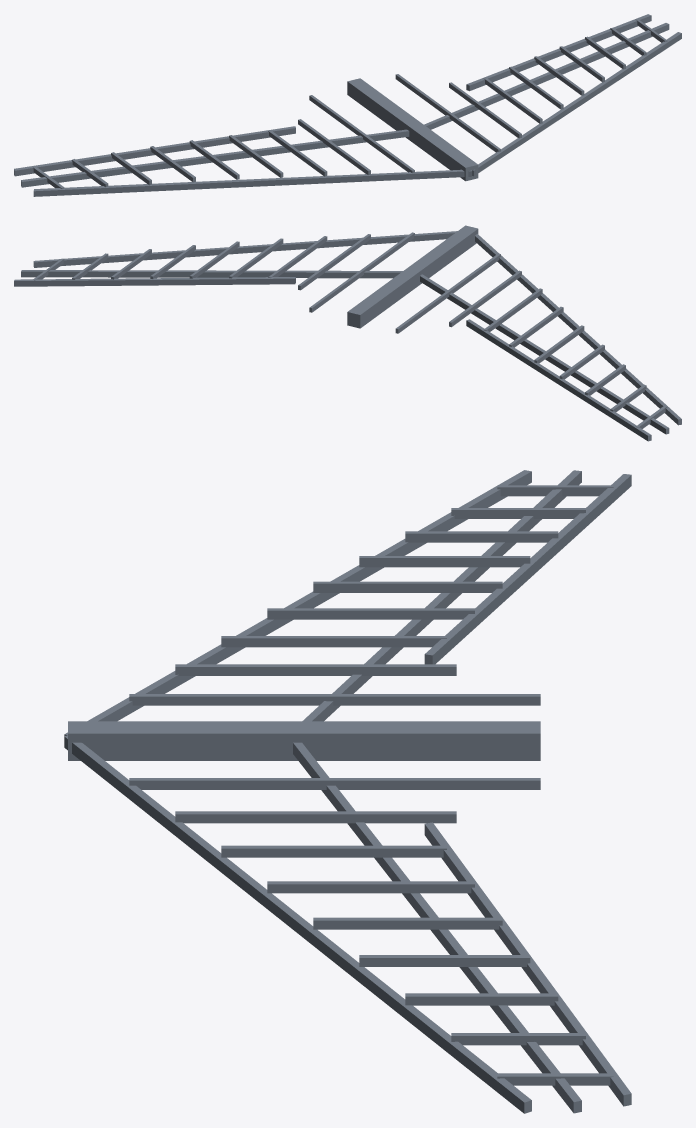
Rendered from dread_step02_keel_spars.glb.
3 views of the same model, one above another, from view 1: azimuth 30°, elevation 25°; view 2: azimuth 150°, elevation 25°; view 3: azimuth 270°, elevation 25° (orthographic). The views are drawn at different scales.
Visible parts, largest first — view 1: keel_spars; view 2: keel_spars; view 3: keel_spars.
Part boxes in pixels (bbox=[...]): keel_spars: bbox=[14, 14, 681, 196]; keel_spars: bbox=[14, 225, 681, 441]; keel_spars: bbox=[64, 470, 631, 1113].
Bounding box in the file's own units: 60.18 × 3.11 × 22.81.
